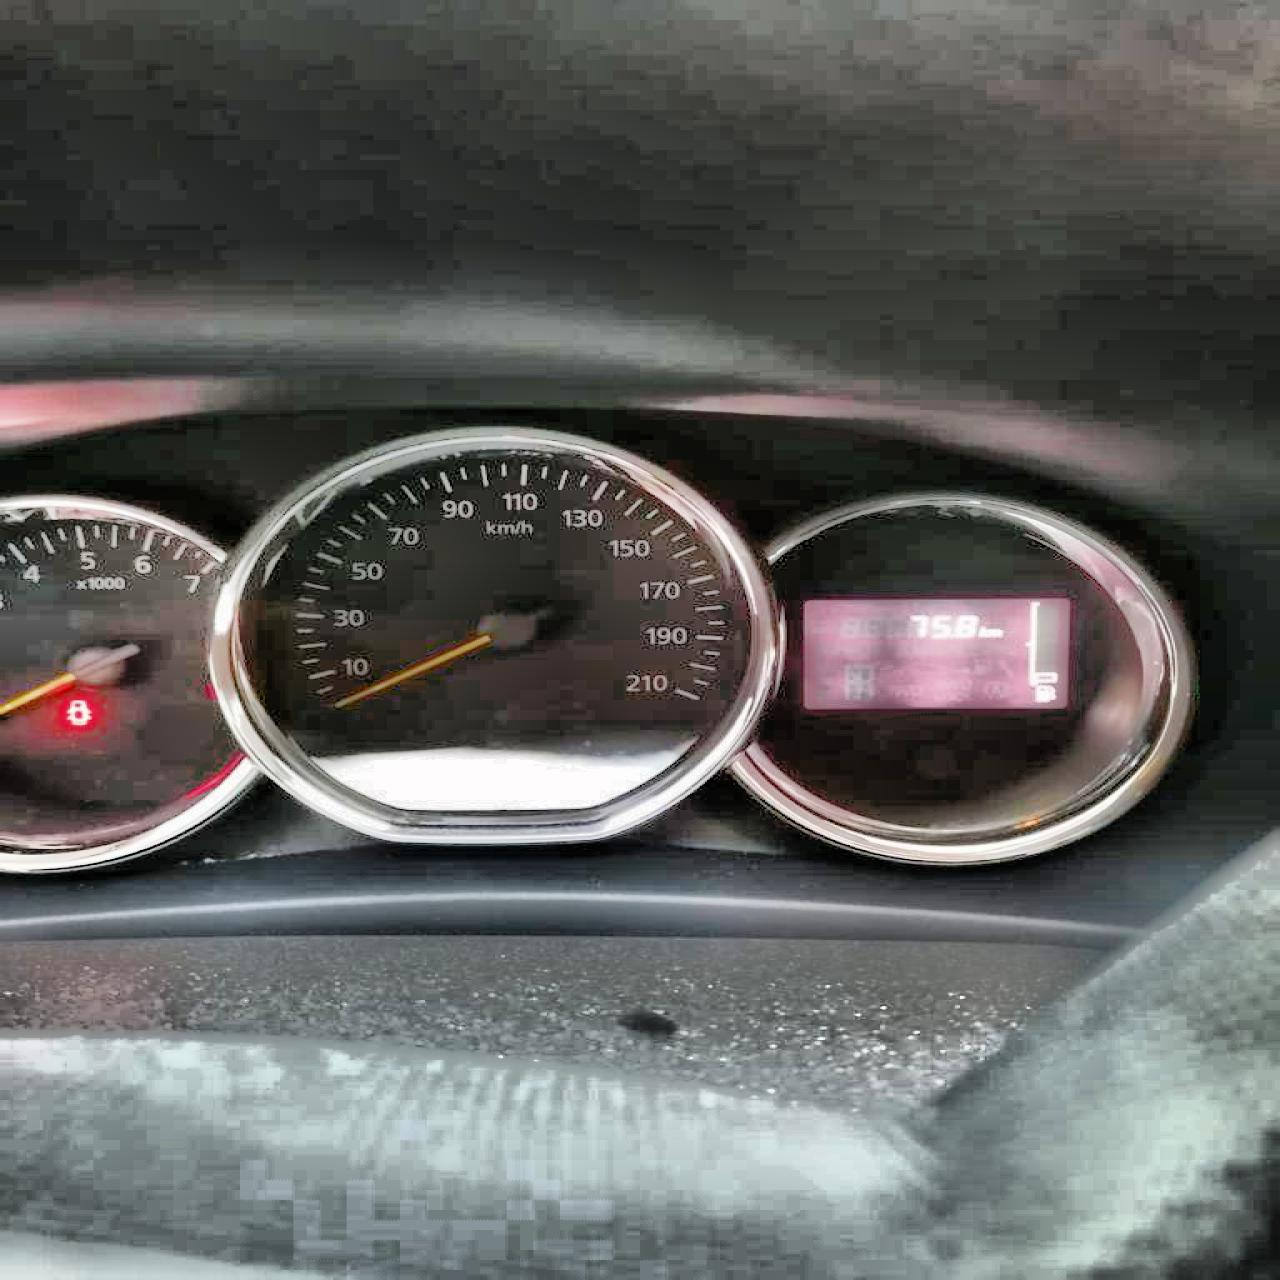-: (948, 632, 953, 638)
5: (930, 613, 948, 638)
7: (908, 612, 927, 638)
8: (953, 613, 975, 638)
X: (987, 627, 1003, 638), (979, 625, 987, 636)
odometer: (802, 595, 1070, 710)
